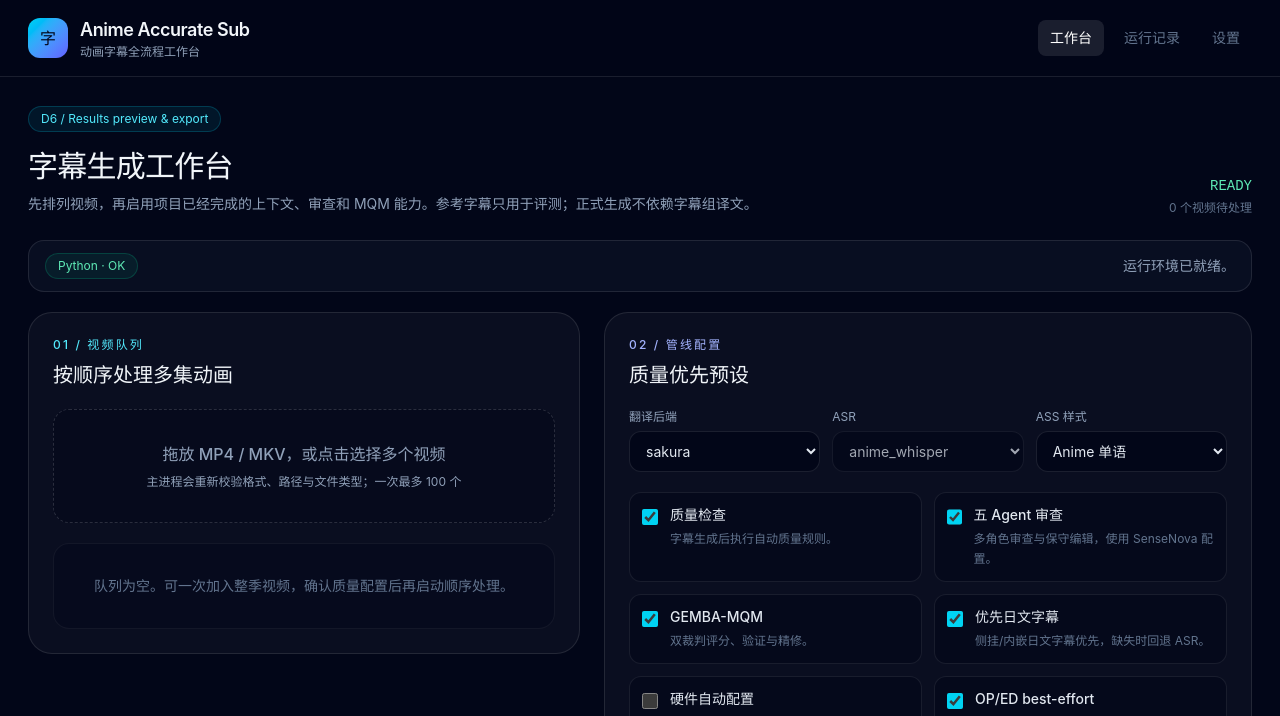
Scenario: App › renders the workbench and adds validated videos from the native picker
The image size is (1280, 716).
Expected: the heading "字幕生成工作台" is shown, [28, 148, 233, 184]
Expected: the checkbox labelled "质量检查 字幕生成后执行自动质量规则。" is checked, [642, 509, 658, 525]
Click the button with test id "video-drop-zone". click: {"x": 304, "y": 466}
box: [53, 409, 555, 523]
(page scrolled)
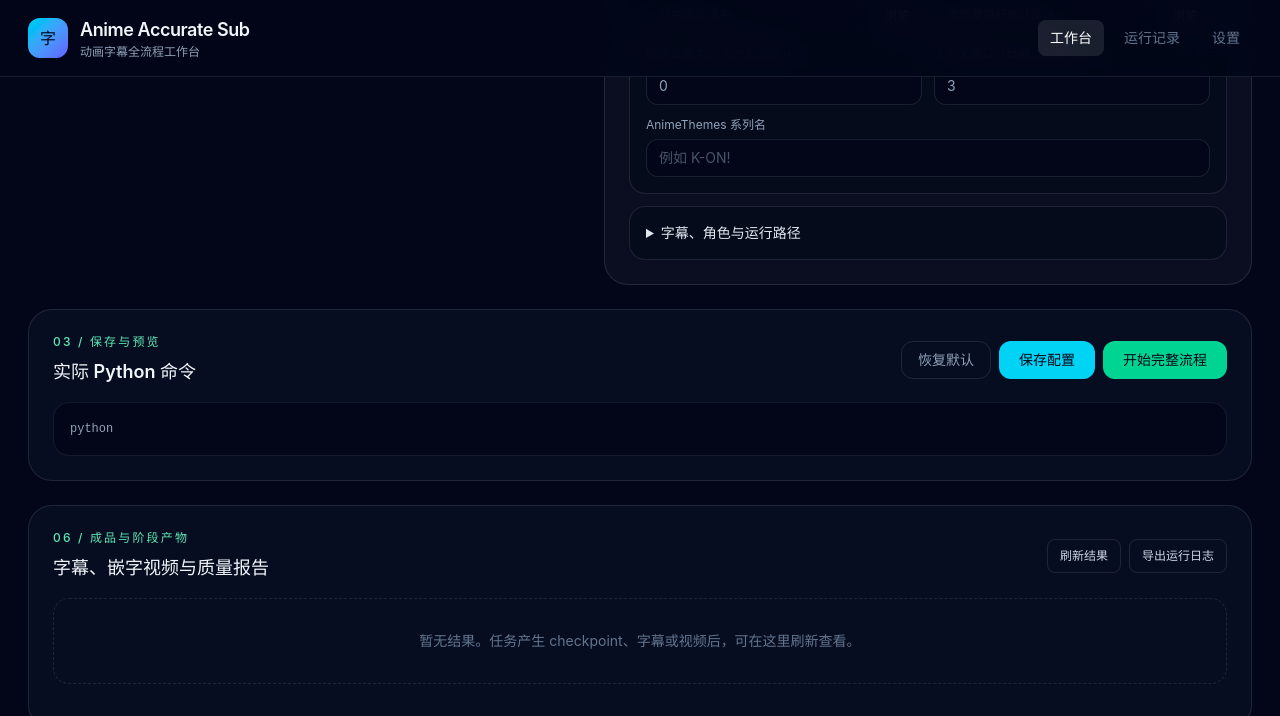
Result: the text "python" is shown at [53, 402, 1227, 456]
Result: the button "开始完整流程" is enabled at [1103, 341, 1227, 379]
